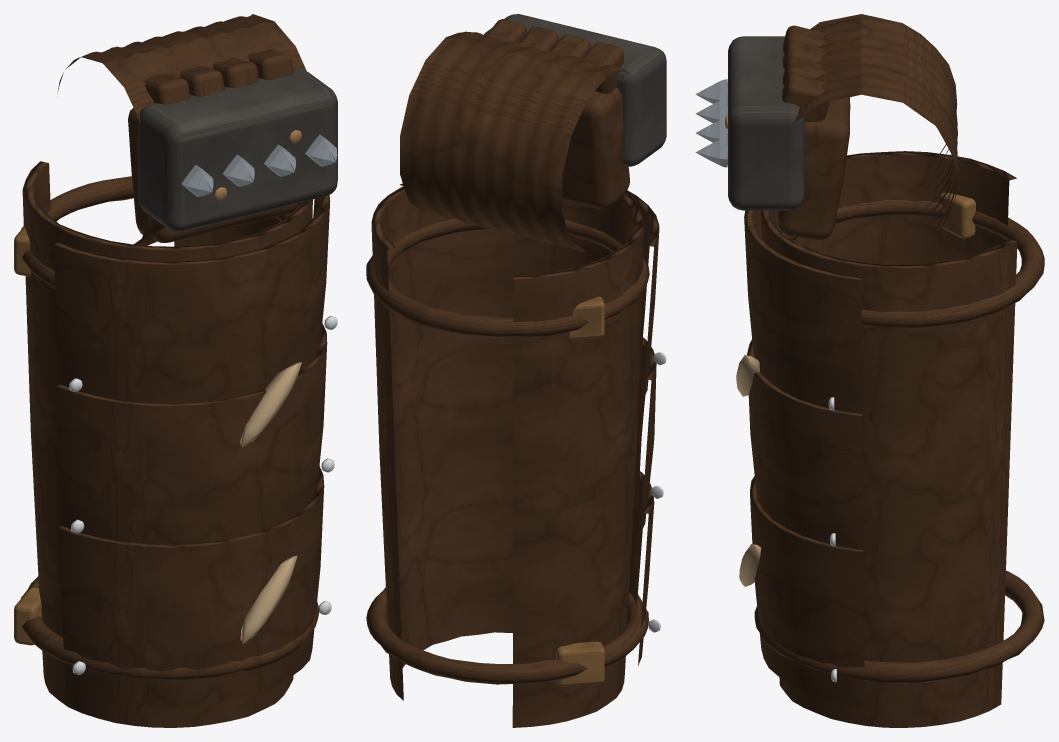
File: cestus.lod1.glb
The picture shows the model from 3 angles, left to right: view 1: azimuth 30°, elevation 25°; view 2: azimuth 150°, elevation 25°; view 3: azimuth 270°, elevation 25°; orthographic projection. The views are drawn at different scales.
Visible parts, largest first — view 1: leather / oiled leather wrap, iron / hammer-scaled wrought iron, thread loop, steel / forged blade steel, bronze / cast bronze with patina, edge / honed bright bevel; view 2: leather / oiled leather wrap, iron / hammer-scaled wrought iron, bronze / cast bronze with patina; view 3: leather / oiled leather wrap, iron / hammer-scaled wrought iron, steel / forged blade steel, thread loop, bronze / cast bronze with patina.
Part boxes in pixels (bbox=[...]): leather / oiled leather wrap: bbox=[21, 14, 330, 727]; iron / hammer-scaled wrought iron: bbox=[138, 69, 337, 231]; thread loop: bbox=[240, 362, 301, 643]; steel / forged blade steel: bbox=[181, 134, 337, 196]; bronze / cast bronze with patina: bbox=[14, 226, 41, 645]; edge / honed bright bevel: bbox=[69, 316, 337, 674]; leather / oiled leather wrap: bbox=[366, 19, 659, 727]; iron / hammer-scaled wrought iron: bbox=[484, 14, 666, 166]; bronze / cast bronze with patina: bbox=[556, 296, 604, 686]; leather / oiled leather wrap: bbox=[744, 14, 1044, 727]; iron / hammer-scaled wrought iron: bbox=[728, 36, 804, 210]; steel / forged blade steel: bbox=[695, 79, 727, 167]; thread loop: bbox=[736, 355, 760, 586]; bronze / cast bronze with patina: bbox=[939, 192, 975, 238].
Size of the model in its own units: 0.1579 by 0.361 by 0.1829.
7 materials, 5 textured.
